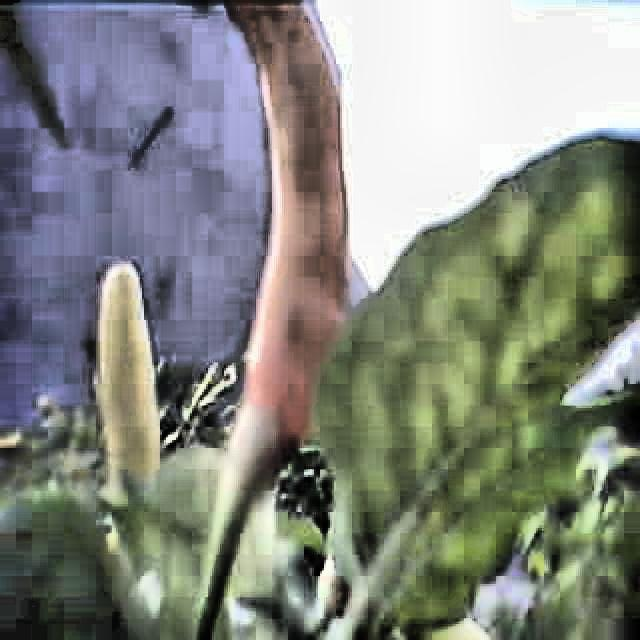Cabai: (233, 0, 361, 451)
